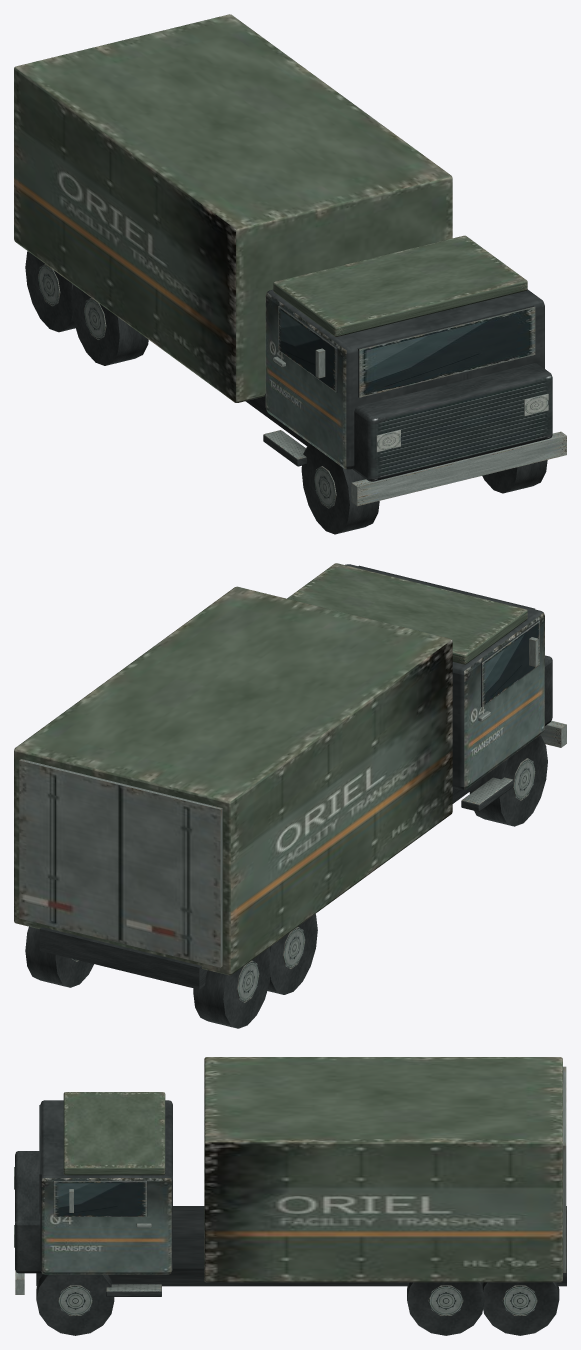
The model's file is supply_truck.glb.
3 views of the same model, one above another, from view 1: azimuth 30°, elevation 25°; view 2: azimuth 150°, elevation 25°; view 3: azimuth 270°, elevation 25° (orthographic). The views are drawn at different scales.
Visible parts, largest first — view 1: SupplyTruck; view 2: SupplyTruck; view 3: SupplyTruck.
Boxes of the visible parts, <box> form: SupplyTruck: <box>14,14,566,534</box>; SupplyTruck: <box>14,563,566,1028</box>; SupplyTruck: <box>14,1057,566,1335</box>.
Size of the model in its own units: 2.62 by 2.8 by 7.09.
Materials: 1 (1 with a texture image).
